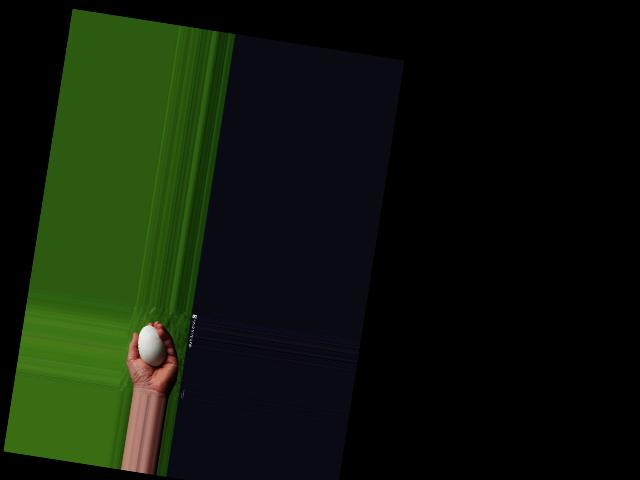egg: (134, 324, 170, 369)
